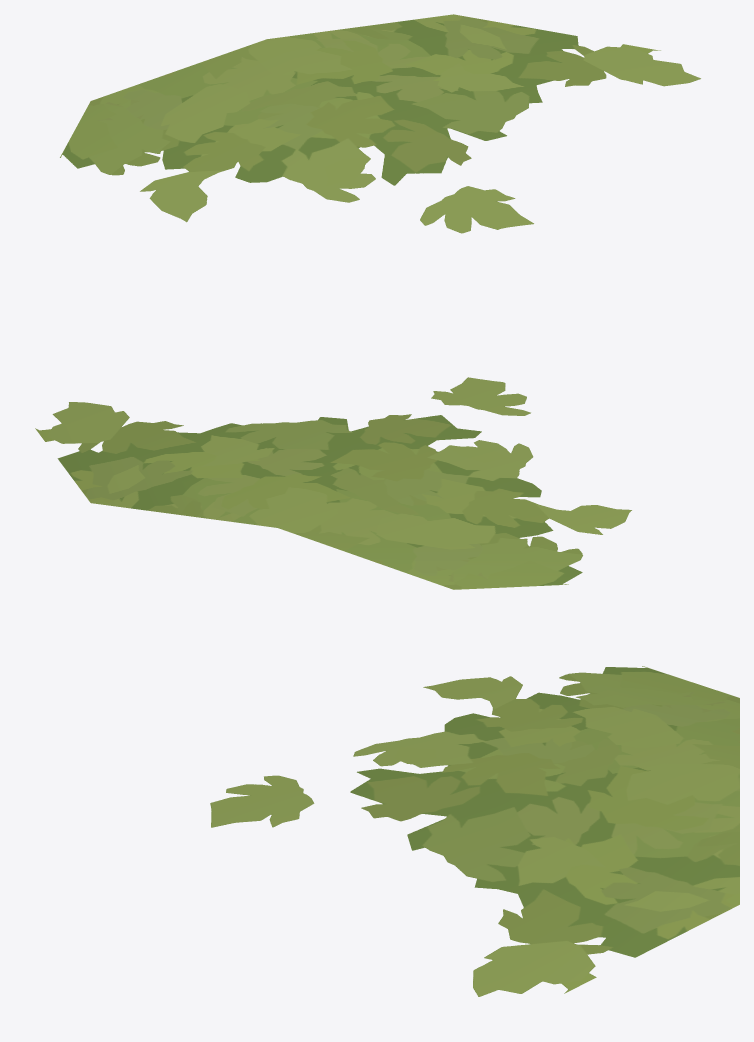
The model's file is SM_Env_Vine_07.fbx.
3 views of the same model, one above another, from view 1: azimuth 30°, elevation 25°; view 2: azimuth 150°, elevation 25°; view 3: azimuth 270°, elevation 25° (orthographic). The views are drawn at different scales.
Visible parts, largest first — view 1: SM_Env_Vine_07; view 2: SM_Env_Vine_07; view 3: SM_Env_Vine_07.
Part boxes in pixels (<box>): SM_Env_Vine_07: <box>60,14,700,233</box>; SM_Env_Vine_07: <box>35,377,631,589</box>; SM_Env_Vine_07: <box>210,666,739,996</box>.
Bounding box in the file's own units: 177 × 8.97 × 133.
